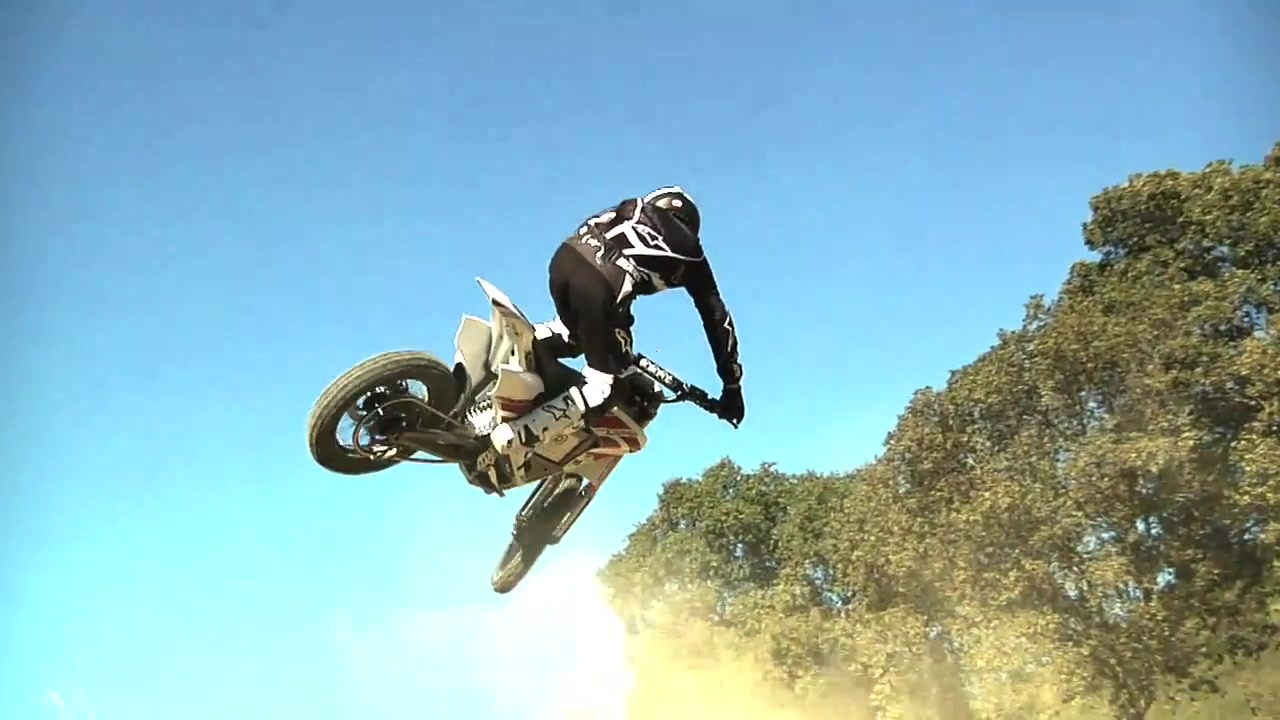motorbike: (304, 277, 747, 596)
